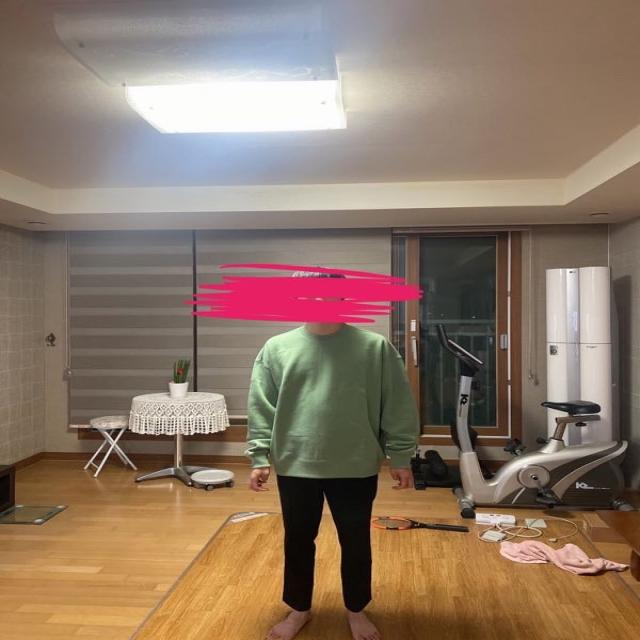mtm: (244, 326, 416, 481)
slacks: (281, 474, 383, 612)
